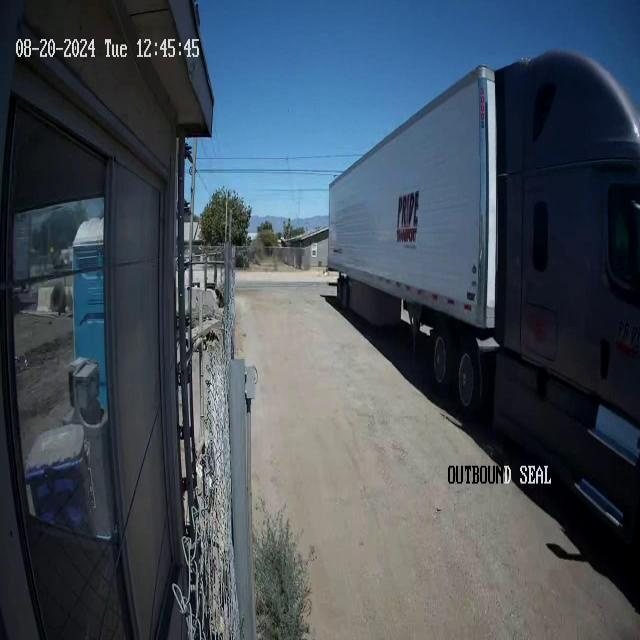TRUCK_CONTAINER: (326, 47, 639, 550)
